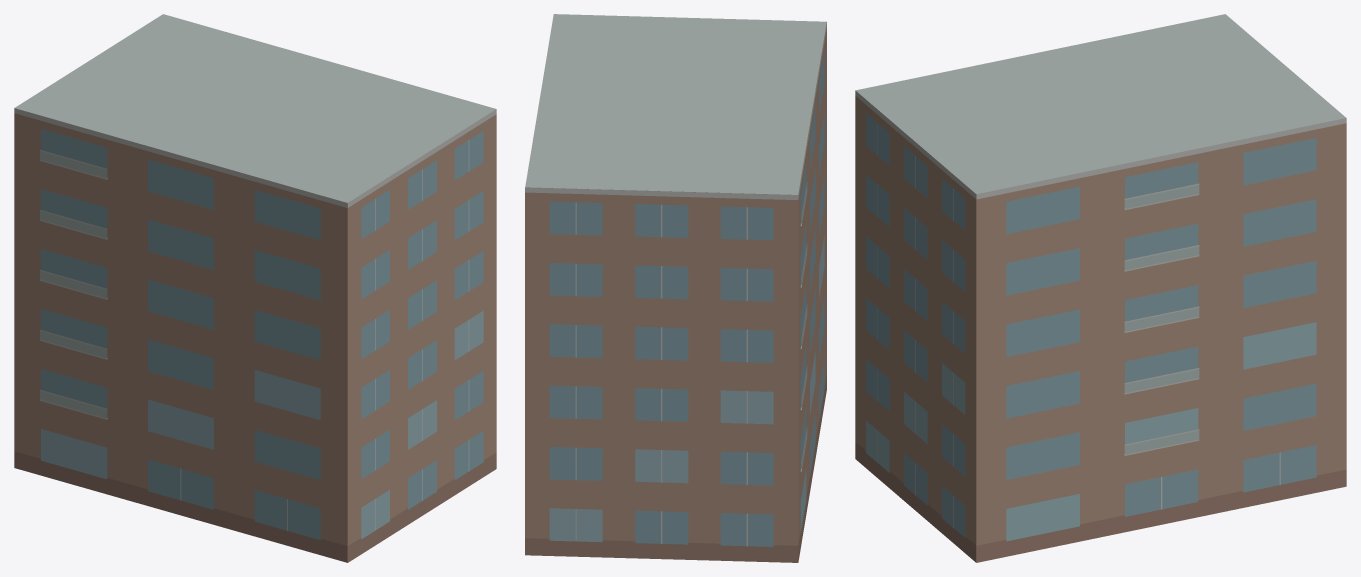
Rendered from survey-upis-32731071.glb.
The picture shows the model from 3 angles, left to right: view 1: azimuth 30°, elevation 25°; view 2: azimuth 150°, elevation 25°; view 3: azimuth 270°, elevation 25°; orthographic projection. The views are drawn at different scales.
Visible parts, largest first — view 1: survey-upis-32731071.tmp; view 2: survey-upis-32731071.tmp; view 3: survey-upis-32731071.tmp.
Part boxes in pixels (<box>): survey-upis-32731071.tmp: <box>14,14,496,562</box>; survey-upis-32731071.tmp: <box>525,14,826,562</box>; survey-upis-32731071.tmp: <box>855,14,1346,562</box>.
Size of the model in its own units: 18.21 by 17.35 by 20.97.
